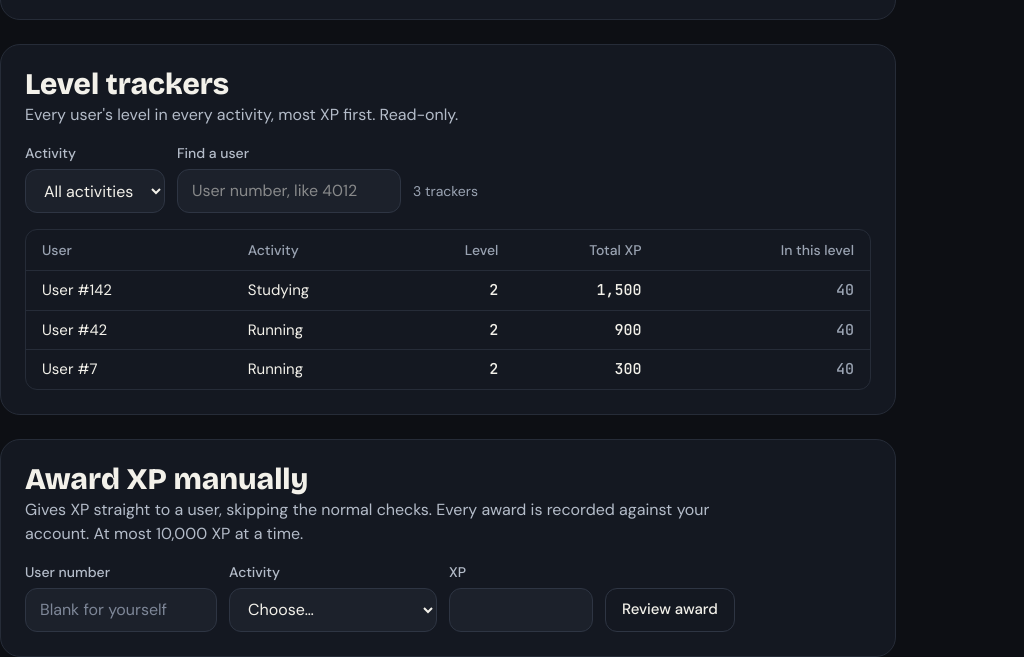
System tools — award XP manually › repeats the user, activity and amount back before the final click
The width and height of the screenshot is (1024, 657).
(page scrolled)
Type "42" into the field labelled "User number" at (121, 610), box 25,588 -> 217,632
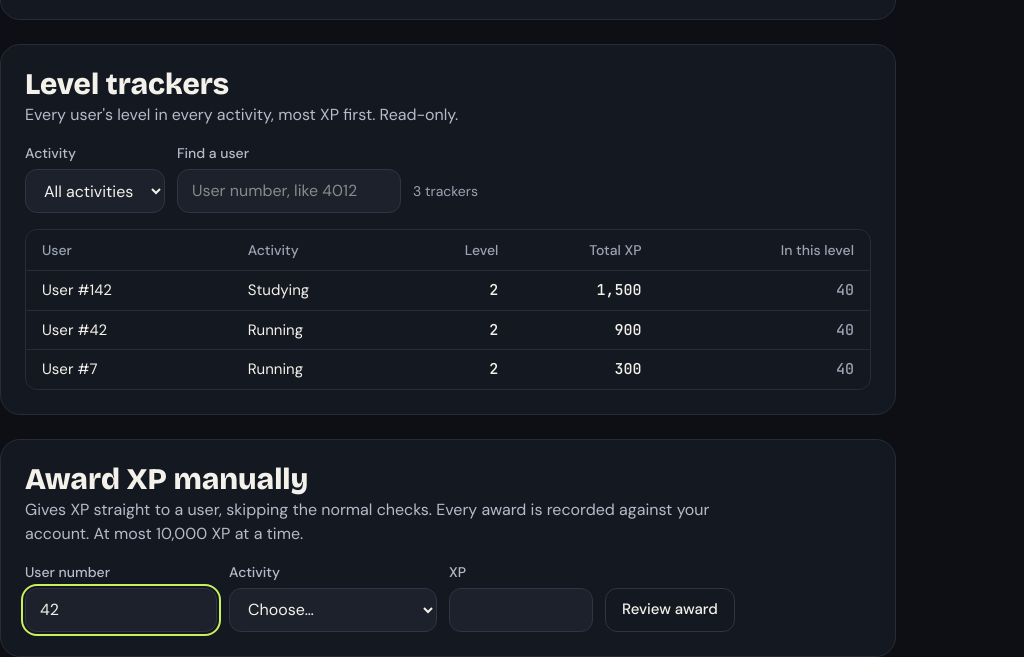
Select "Running" in the dropdown labelled "Activity" below "User number" at (333, 610), box 229,588 -> 437,632
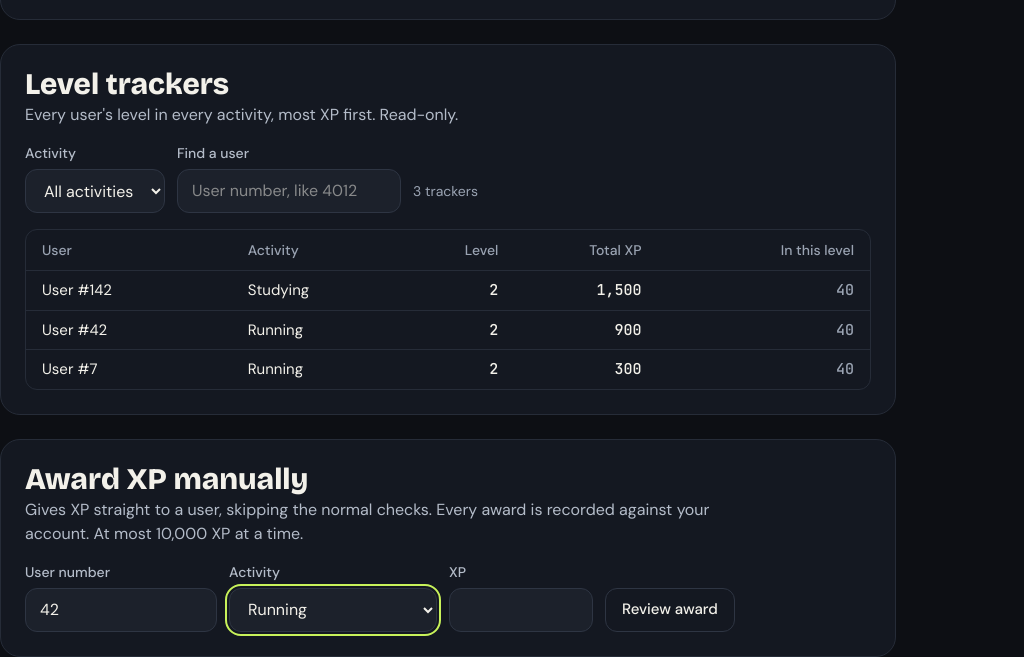
Type "500" into the number field labelled "XP" at (521, 610), box 449,588 -> 593,632
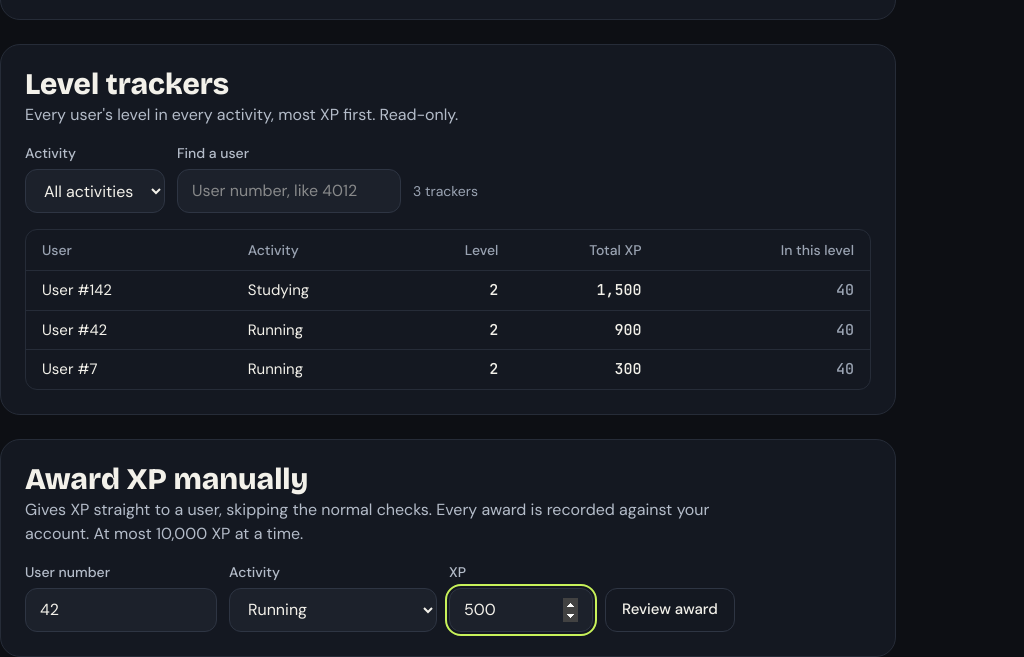
Click the button "Review award" at (670, 610), box 605,588 -> 735,632
(page scrolled)
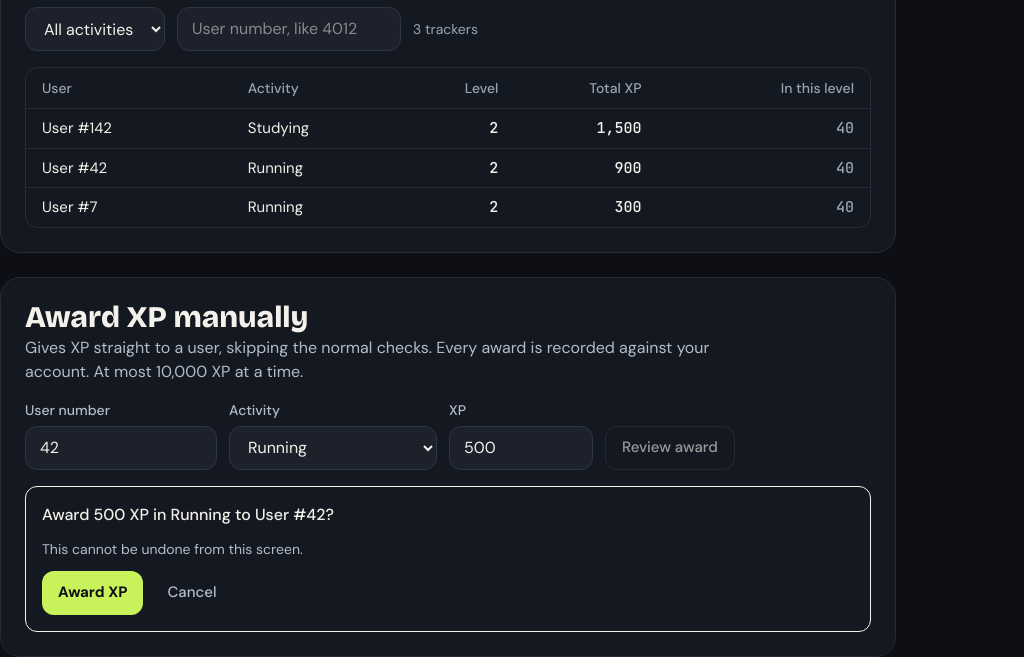
Now the text "Award 500 XP in Running to User #42?" is shown, box 42,504 -> 334,525
Click the button "Award XP" at (93, 593), box 42,571 -> 144,615
(page scrolled)
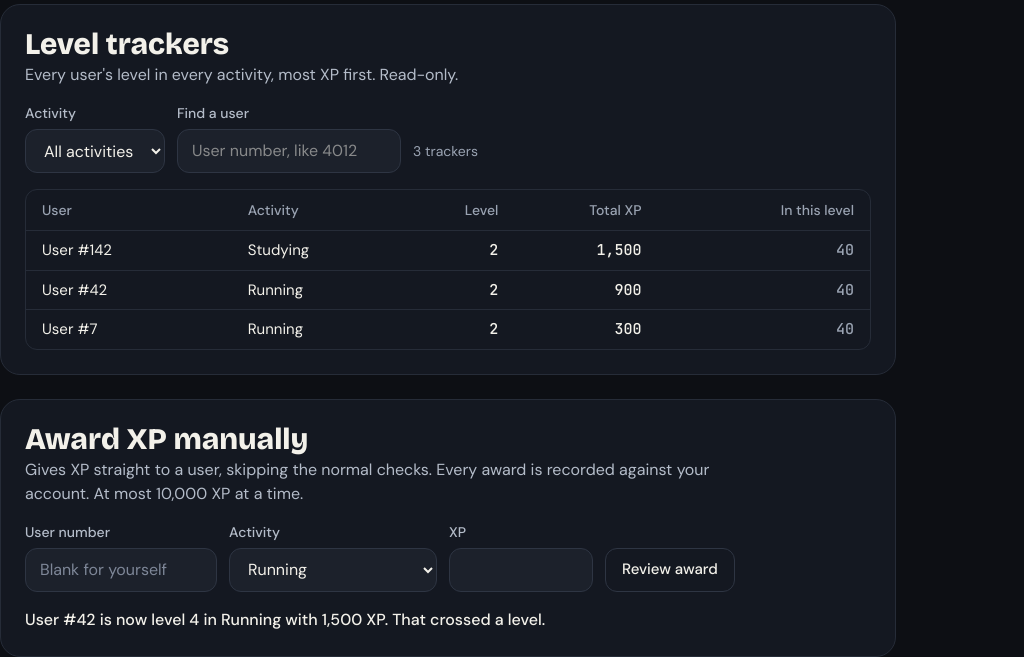
Now the text "User #42 is now level 4 in Running with 1,500 XP" shows "That crossed a level.", box 388,609 -> 545,630
Now the dialog is gone
